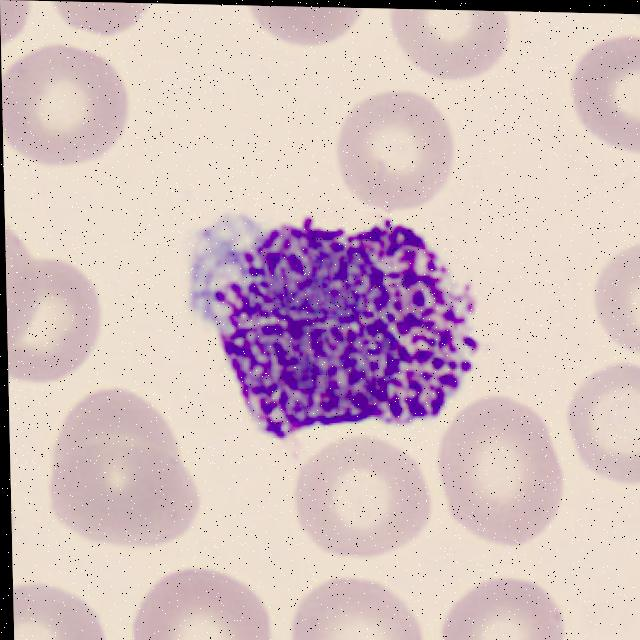basophil: (190, 194, 510, 435)
rbc: (322, 81, 467, 213), (298, 431, 434, 552), (442, 401, 557, 543), (55, 433, 196, 548), (1, 52, 148, 162), (107, 560, 295, 640), (280, 553, 432, 640), (23, 250, 112, 383), (390, 9, 526, 94), (561, 345, 640, 485), (50, 388, 183, 470), (436, 567, 574, 640), (569, 28, 640, 147), (13, 567, 118, 640), (5, 204, 53, 356), (242, 6, 367, 51), (52, 1, 165, 46), (591, 244, 640, 345), (0, 0, 40, 54), (630, 533, 640, 618)
